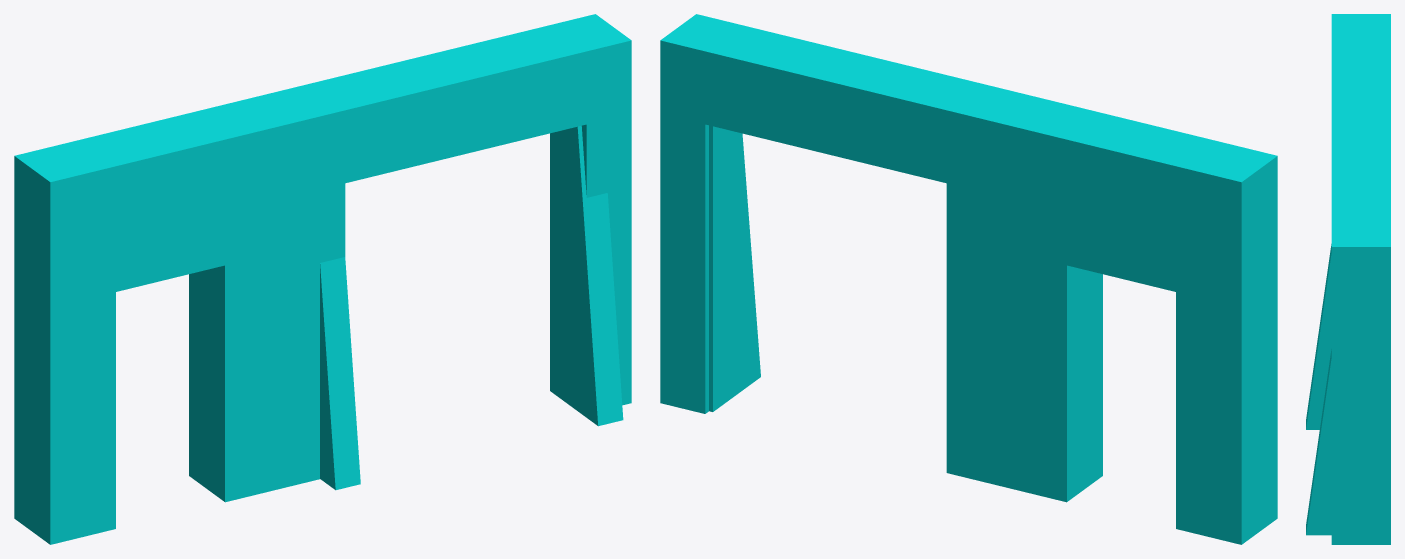
File: SM_Bld_Wall_Shop_02_Collision.fbx
3 renders of one model, left to right at view 1: azimuth 30°, elevation 25°; view 2: azimuth 150°, elevation 25°; view 3: azimuth 270°, elevation 25°, orthographic. The views are drawn at different scales.
Visible parts, largest first — view 1: SM_Bld_Wall_Shop_02_Collision; view 2: SM_Bld_Wall_Shop_02_Collision; view 3: SM_Bld_Wall_Shop_02_Collision.
Boxes of the visible parts, bbox=[...] form: SM_Bld_Wall_Shop_02_Collision: bbox=[14, 14, 631, 544]; SM_Bld_Wall_Shop_02_Collision: bbox=[660, 14, 1277, 544]; SM_Bld_Wall_Shop_02_Collision: bbox=[1306, 14, 1390, 544].
Size of the model in its own units: 513 by 306 by 78.98.
